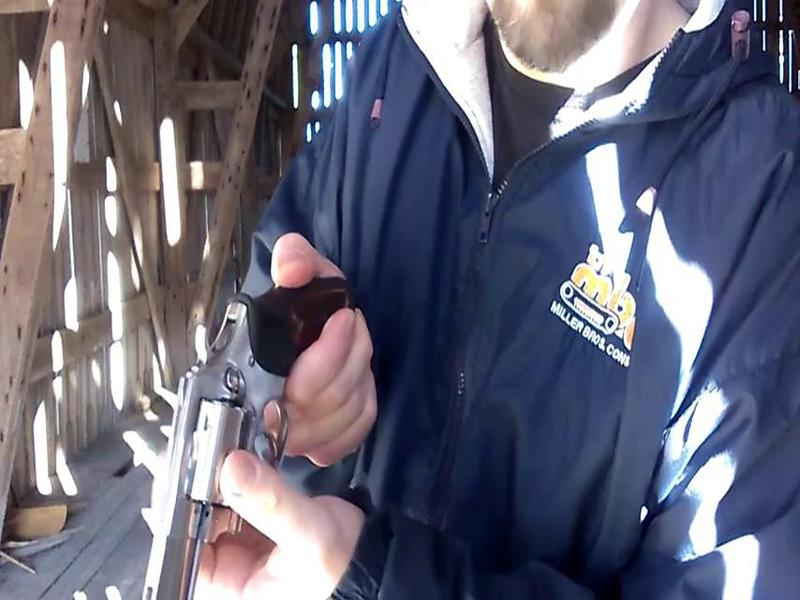Revolver: (150, 288, 287, 594)
